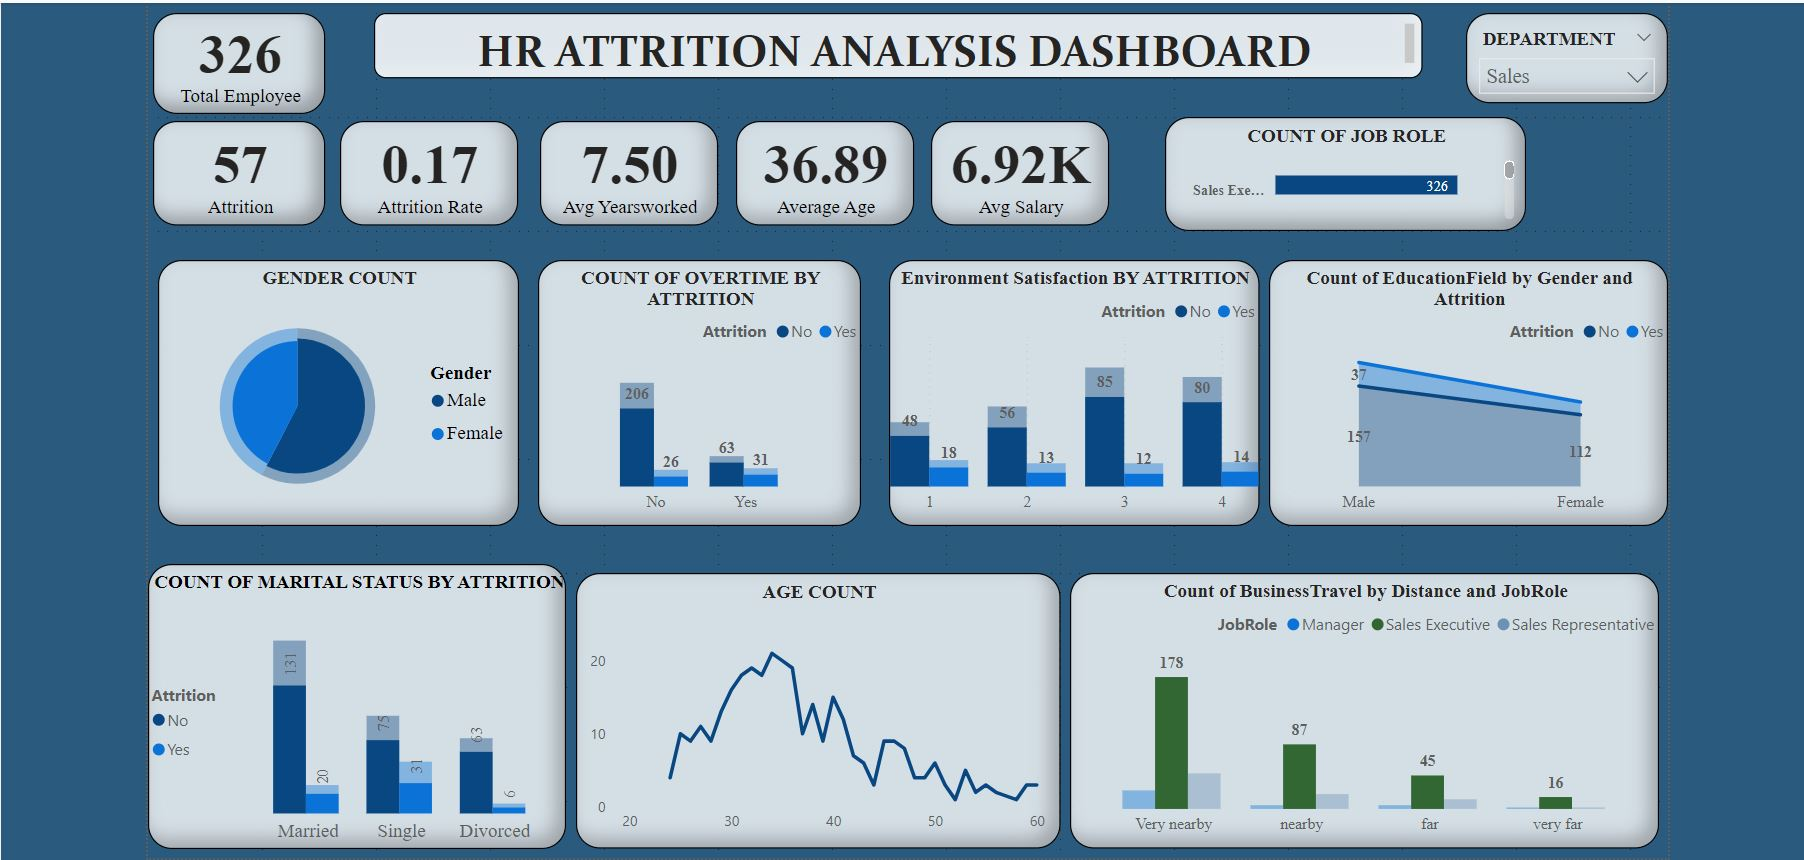

What the dashboard file says about the page in this screenshot:
{"tool":"powerbi","page":{"name":"Page 1","canvas":[1280,720],"ordinal":0},"visuals":[{"type":"card","fields":{"Values":["Avg(Sheet1.Age)"]},"box":[495.4,99.4,149.8,87.8],"z":0},{"type":"card","fields":{"Values":["Sum(Sheet1.Att_rate)"]},"box":[4.3,99.4,145.4,87.8],"z":1000},{"type":"card","fields":{"Values":["CountNonNull(Sheet1.Attrition)"]},"box":[4.3,8.6,145.4,85],"z":2000},{"type":"card","fields":{"Values":["Avg(Sheet1.Att_rate)"]},"box":[161.3,99.4,149.8,87.8],"z":3000},{"type":"card","fields":{"Values":["Avg(Sheet1.MonthlyIncome)"]},"box":[659.5,99.4,149.8,87.8],"z":4000},{"type":"slicer","fields":{"Values":["Sheet1.Department"]},"box":[1110.2,8.6,169.9,76.3],"z":5000},{"type":"pieChart","title":"GENDER COUNT","fields":{"Category":["Sheet1.Gender"],"Y":["CountNonNull(Sheet1.Gender)"]},"box":[8,216,304,224],"z":6000},{"type":"clusteredColumnChart","title":"COUNT OF OVERTIME BY ATTRITION","fields":{"Category":["Sheet1.OverTime"],"Y":["CountNonNull(Sheet1.Attrition)"],"Series":["Sheet1.Attrition"]},"box":[328,216,272,224],"z":7000},{"type":"clusteredColumnChart","title":"COUNT OF MARITAL STATUS BY ATTRITION","fields":{"Category":["Sheet1.MaritalStatus"],"Series":["Sheet1.Attrition"],"Y":["CountNonNull(Sheet1.MaritalStatus)"]},"box":[0,472,352,240],"z":8000},{"type":"barChart","title":"COUNT OF JOB ROLE","fields":{"Y":["CountNonNull(Sheet1.Attrition)"],"Category":["Sheet1.JobRole"]},"box":[856,96,304,96],"z":9000},{"type":"textbox","box":[190.1,8.6,882.7,54.7],"z":10000},{"type":"lineChart","title":"AGE COUNT","fields":{"Category":["Sheet1.Age"],"Y":["CountNonNull(Sheet1.Attrition)"]},"box":[360,480,408,232],"z":11000},{"type":"card","fields":{"Values":["Avg(Sheet1.YearsAtCompany)"]},"box":[329.8,99.4,149.8,87.8],"z":12000},{"type":"clusteredColumnChart","title":"Environment Satisfaction BY ATTRITION","fields":{"Y":["CountNonNull(Sheet1.Attrition)"],"Series":["Sheet1.Attrition"],"Category":["Sheet1.EnvironmentSatisfaction"]},"box":[624,216,312,224],"z":13000},{"type":"stackedAreaChart","fields":{"Y":["CountNonNull(Sheet1.EducationField)"],"Series":["Sheet1.Attrition"],"Category":["Sheet1.Gender"]},"box":[944,216,336,224],"z":14001},{"type":"clusteredColumnChart","fields":{"Series":["Sheet1.JobRole"],"Y":["CountNonNull(Sheet1.BusinessTravel)"],"Category":["Sheet1.Distance"]},"box":[776,480,496,232],"z":14002}]}

Visuals, with their boxes in screenshot pixels (x1, y1, x2, y2):
card - Avg(Sheet1.Age): 729 117 905 220
card - Sum(Sheet1.Att_rate): 151 117 322 220
card - CountNonNull(Sheet1.Attrition): 151 10 322 110
card - Avg(Sheet1.Att_rate): 336 117 512 220
card - Avg(Sheet1.MonthlyIncome): 922 117 1099 220
slicer - Sheet1.Department: 1453 10 1653 100
"GENDER COUNT" pieChart: 155 254 513 518
"COUNT OF OVERTIME BY ATTRITION" clusteredColumnChart: 532 254 852 518
"COUNT OF MARITAL STATUS BY ATTRITION" clusteredColumnChart: 146 556 560 838
"COUNT OF JOB ROLE" barChart: 1154 113 1512 226
textbox: 369 10 1409 75
"AGE COUNT" lineChart: 570 565 1050 838
card - Avg(Sheet1.YearsAtCompany): 534 117 710 220
"Environment Satisfaction BY ATTRITION" clusteredColumnChart: 880 254 1248 518
stackedAreaChart - CountNonNull(Sheet1.EducationField) x Sheet1.Attrition: 1257 254 1653 518
clusteredColumnChart - Sheet1.JobRole x CountNonNull(Sheet1.BusinessTravel): 1059 565 1643 838
